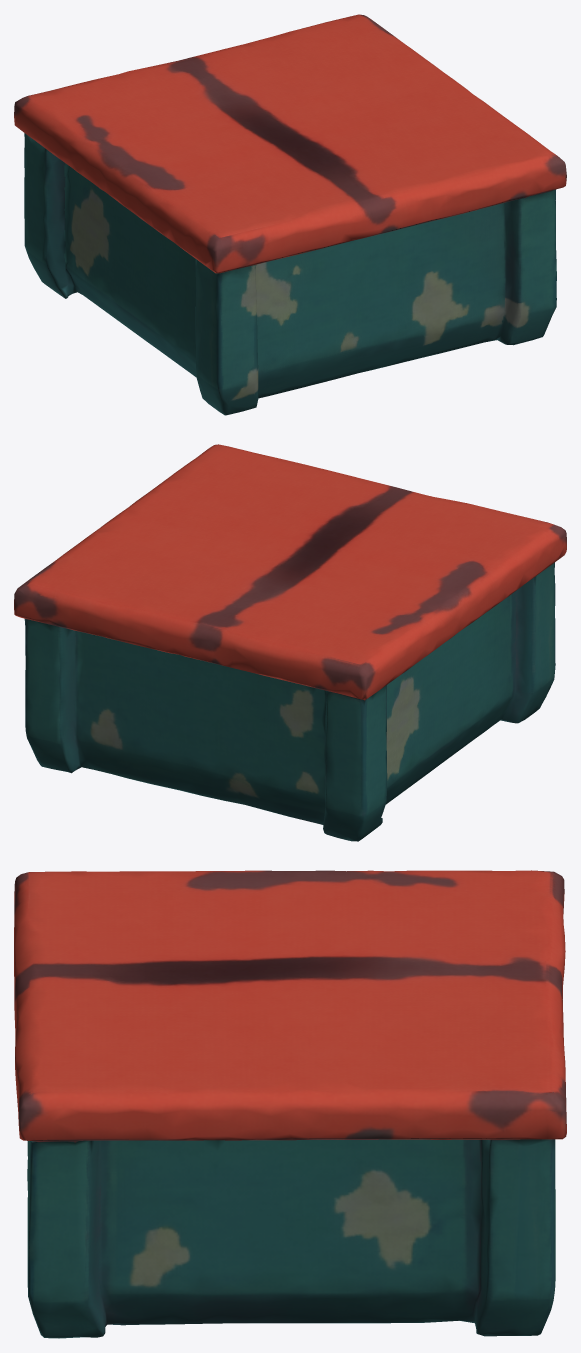
The model's file is scrapper_basin_threeview_candidate.glb.
3 renders of one model, top to bottom at view 1: azimuth 30°, elevation 25°; view 2: azimuth 150°, elevation 25°; view 3: azimuth 270°, elevation 25°, orthographic. The views are drawn at different scales.
Parts seen in each view (by area): view 1: scrapper_basin_threeview_candidate; view 2: scrapper_basin_threeview_candidate; view 3: scrapper_basin_threeview_candidate.
Boxes of the visible parts, bbox=[...] form: scrapper_basin_threeview_candidate: bbox=[14, 14, 566, 415]; scrapper_basin_threeview_candidate: bbox=[14, 444, 566, 841]; scrapper_basin_threeview_candidate: bbox=[14, 870, 566, 1338].
Size of the model in its own units: 1.05 by 0.5242 by 1.05.
Materials: 1 (1 with a texture image).
